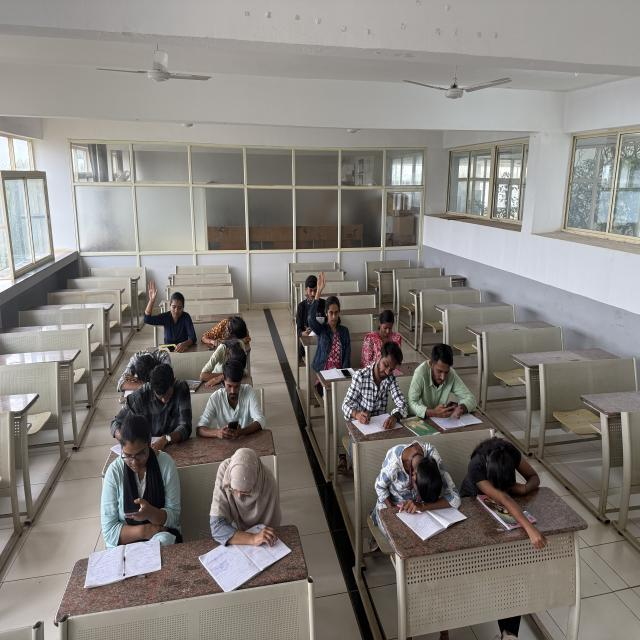Hand Rising: (131, 259, 204, 339), (305, 272, 361, 364)
Sleeping: (468, 425, 544, 504), (388, 442, 460, 507), (200, 284, 260, 353), (196, 319, 254, 376)
Using Phone: (102, 408, 185, 530), (200, 366, 272, 440), (414, 335, 476, 414)
Writing: (193, 450, 302, 555), (343, 319, 414, 430), (278, 254, 322, 348)
